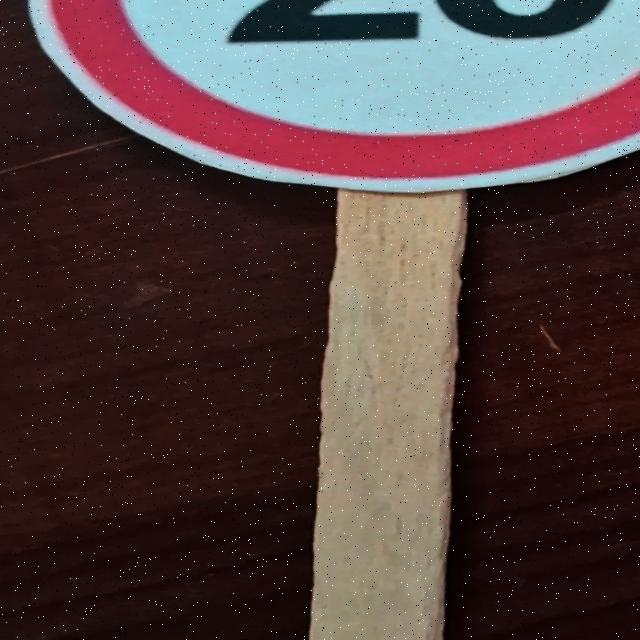Speed20: (0, 0, 640, 216)
